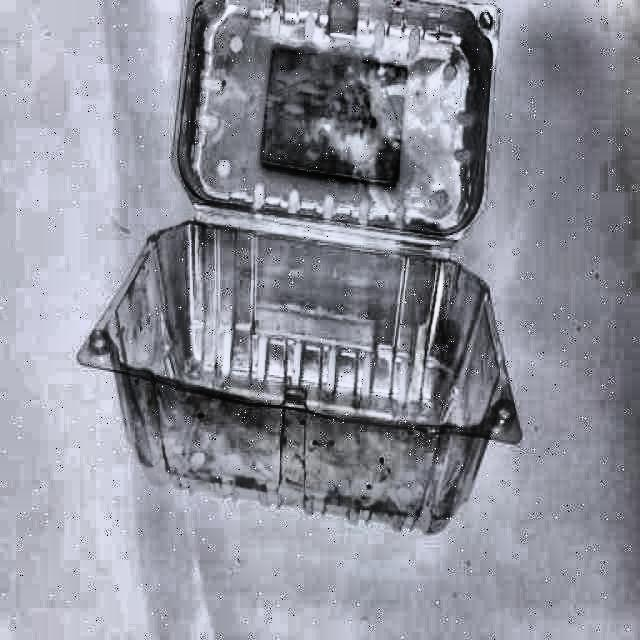plastic: (77, 0, 524, 536)
